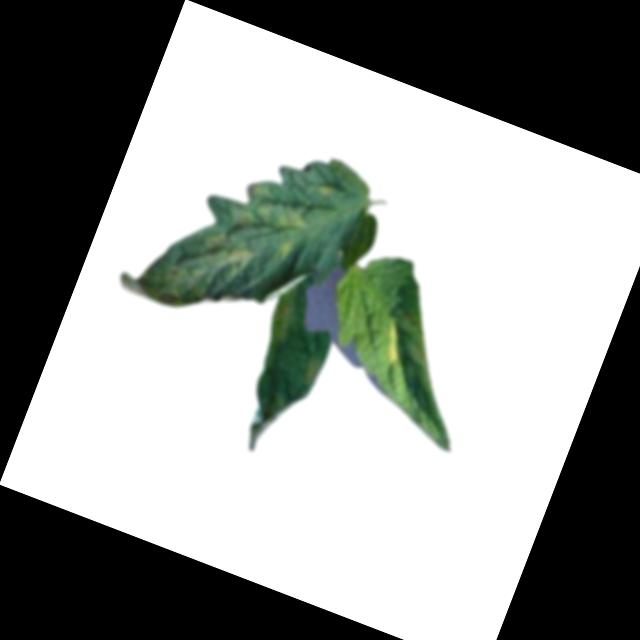Leaf_Mold: (116, 204, 258, 332), (223, 172, 316, 247), (374, 319, 410, 367), (268, 235, 297, 268), (300, 354, 326, 385), (312, 180, 335, 204)
